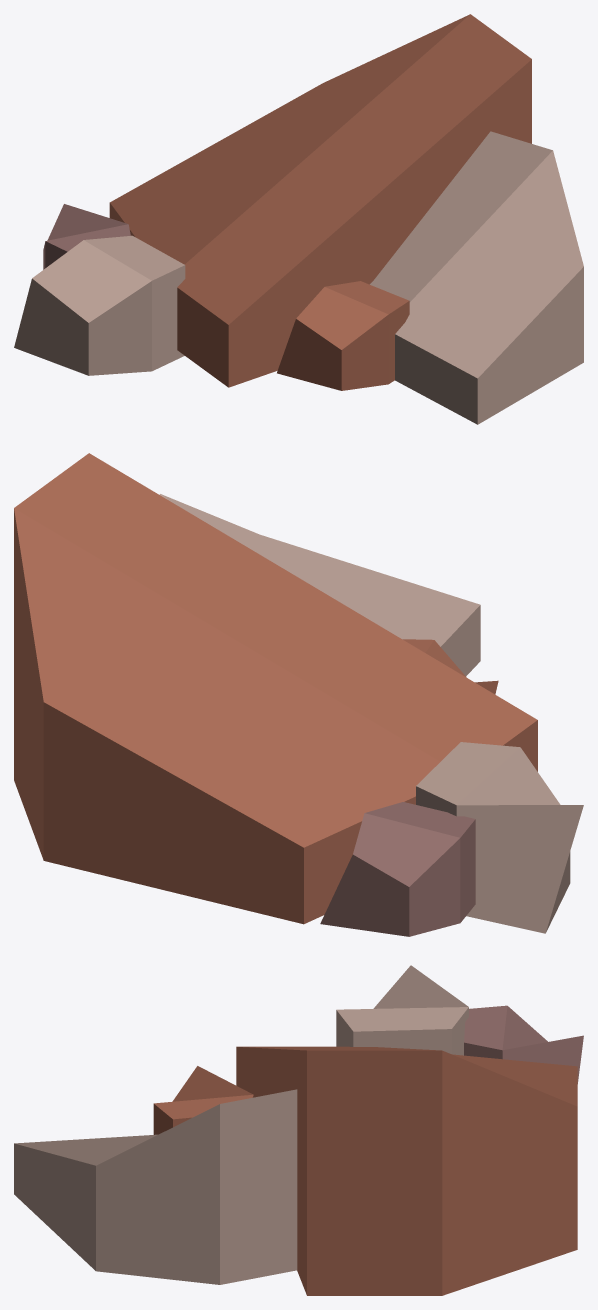
Rendered from rock-type5-01-orange.glb.
3 views of the same model, one above another, from view 1: azimuth 30°, elevation 25°; view 2: azimuth 150°, elevation 25°; view 3: azimuth 270°, elevation 25° (orthographic). The views are drawn at different scales.
Parts seen in each view (by area): view 1: Rock_Type5_01_mesh; view 2: Rock_Type5_01_mesh; view 3: Rock_Type5_01_mesh.
Boxes of the visible parts, box(x1,y1,x2,y2) form: Rock_Type5_01_mesh: box(14, 14, 583, 424); Rock_Type5_01_mesh: box(14, 453, 583, 936); Rock_Type5_01_mesh: box(14, 965, 583, 1295).
Size of the model in its own units: 1.94 by 0.9523 by 1.92.
Materials: 1 (1 with a texture image).
